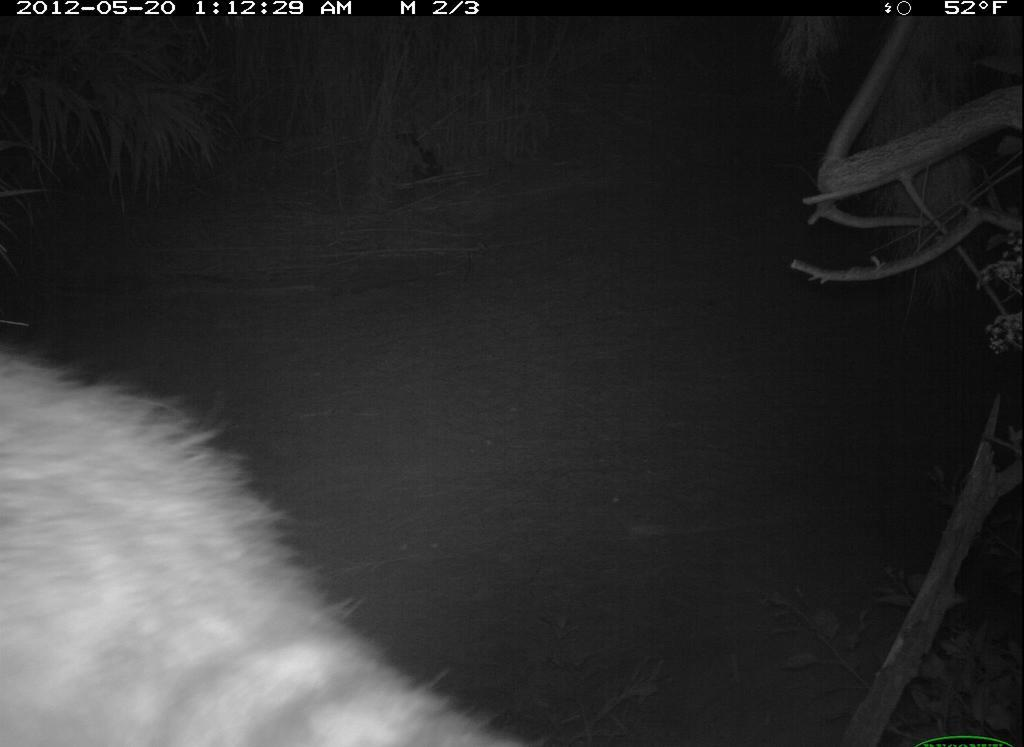raccoon: (2, 336, 546, 747)
